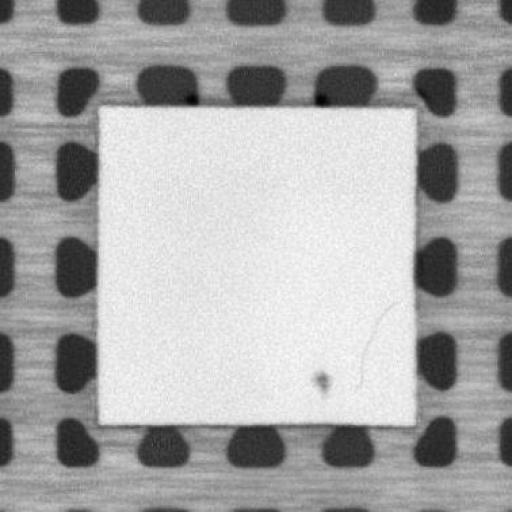DIE_INK: (309, 366, 333, 396)
